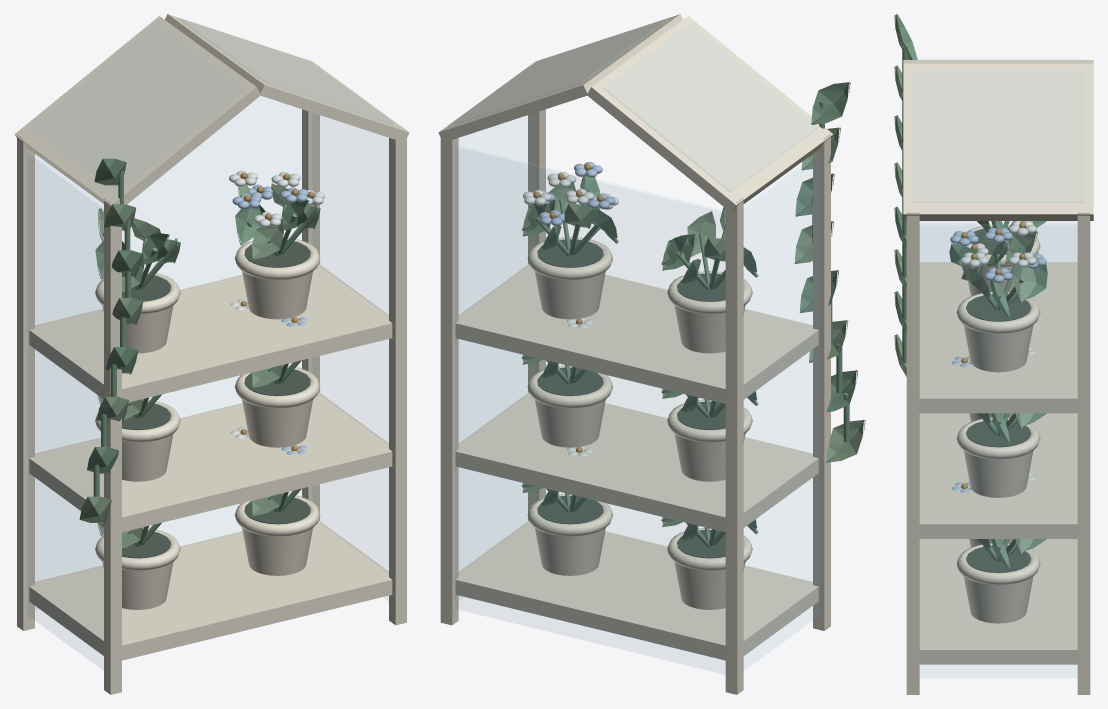
File: v18_greenhouse_shelf.glb
3 renders of one model, left to right at view 1: azimuth 30°, elevation 25°; view 2: azimuth 150°, elevation 25°; view 3: azimuth 270°, elevation 25°, orthographic. The views are drawn at different scales.
Parts seen in each view (by area): view 1: _MeshInstance3D_2537, _MeshInstance3D_2225, _MeshInstance3D_2431, _MeshInstance3D_2328, _MeshInstance3D_2224, _MeshInstance3D_2221, _MeshInstance3D_2539, _MeshInstance3D_2222, _MeshInstance3D_2459, _MeshInstance3D_2356, _MeshInstance3D_2253, _MeshInstance3D_2223 (+25 smaller); view 2: _MeshInstance3D_2537, _MeshInstance3D_2225, _MeshInstance3D_2328, _MeshInstance3D_2431, _MeshInstance3D_2221, _MeshInstance3D_2223, _MeshInstance3D_2222, _MeshInstance3D_2539, _MeshInstance3D_2356, _MeshInstance3D_2253, _MeshInstance3D_2459, _MeshInstance3D_2224 (+19 smaller); view 3: _MeshInstance3D_2539, _MeshInstance3D_2431, _MeshInstance3D_2225, _MeshInstance3D_2328, _MeshInstance3D_2224, _MeshInstance3D_2223, _MeshInstance3D_2253, _MeshInstance3D_2459, _MeshInstance3D_2356, _MeshInstance3D_2460, _MeshInstance3D_2254, _MeshInstance3D_2357 (+13 smaller).
Part boxes in pixels (x1,y1,x2,y2): _MeshInstance3D_2537: (14, 16, 260, 205); _MeshInstance3D_2225: (29, 520, 392, 660); _MeshInstance3D_2431: (29, 264, 392, 402); _MeshInstance3D_2328: (29, 392, 392, 532); _MeshInstance3D_2224: (389, 125, 406, 625); _MeshInstance3D_2221: (17, 134, 34, 630); _MeshInstance3D_2539: (165, 14, 409, 142); _MeshInstance3D_2222: (104, 198, 121, 694); _MeshInstance3D_2459: (242, 271, 312, 319); _MeshInstance3D_2356: (242, 400, 312, 447); _MeshInstance3D_2253: (242, 528, 312, 575); _MeshInstance3D_2223: (302, 62, 319, 520); _MeshInstance3D_2537: (587, 16, 833, 213); _MeshInstance3D_2225: (455, 520, 818, 660); _MeshInstance3D_2328: (455, 392, 818, 532); _MeshInstance3D_2431: (455, 264, 818, 403); _MeshInstance3D_2221: (725, 198, 743, 694); _MeshInstance3D_2223: (440, 125, 458, 625); _MeshInstance3D_2222: (813, 134, 830, 630); _MeshInstance3D_2539: (438, 14, 682, 142); _MeshInstance3D_2356: (535, 400, 605, 447); _MeshInstance3D_2253: (535, 528, 605, 575); _MeshInstance3D_2459: (535, 271, 605, 319); _MeshInstance3D_2224: (528, 62, 545, 520); _MeshInstance3D_2539: (903, 63, 1093, 220); _MeshInstance3D_2431: (919, 262, 1077, 413); _MeshInstance3D_2225: (919, 539, 1077, 664); _MeshInstance3D_2328: (919, 413, 1077, 538); _MeshInstance3D_2224: (906, 212, 919, 694); _MeshInstance3D_2223: (1077, 212, 1090, 694); _MeshInstance3D_2253: (964, 577, 1033, 623); _MeshInstance3D_2459: (964, 325, 1033, 372); _MeshInstance3D_2356: (964, 451, 1033, 497); _MeshInstance3D_2460: (956, 292, 1040, 333); _MeshInstance3D_2254: (956, 543, 1040, 584); _MeshInstance3D_2357: (956, 417, 1040, 459).
Size of the model in its own units: 1.08 by 1.8 by 0.5784.
